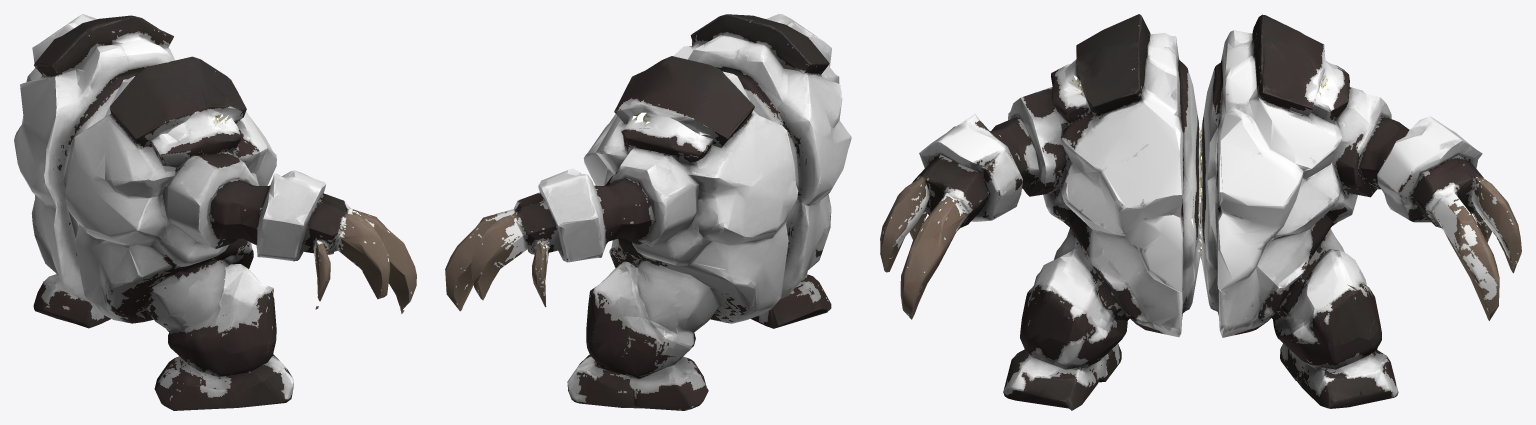
The model's file is splitter.glb.
3 views of the same model, side by side, from view 1: azimuth 30°, elevation 25°; view 2: azimuth 150°, elevation 25°; view 3: azimuth 270°, elevation 25° (orthographic). The views are drawn at different scales.
Parts seen in each view (by area): view 1: arm_r, half_r, half_l, leg_r, leg_l, arm_l; view 2: arm_l, half_l, half_r, leg_l, leg_r, arm_r; view 3: half_l, half_r, arm_r, arm_l, leg_l, leg_r.
Part boxes in pixels (bbox=[...]): arm_r: bbox=[135, 127, 416, 354]; half_r: bbox=[65, 56, 276, 330]; half_l: bbox=[14, 15, 174, 292]; leg_r: bbox=[86, 298, 293, 410]; leg_l: bbox=[33, 274, 110, 328]; arm_l: bbox=[20, 14, 96, 87]; arm_l: bbox=[445, 124, 723, 356]; half_l: bbox=[583, 56, 798, 331]; half_r: bbox=[673, 14, 850, 294]; leg_l: bbox=[567, 308, 771, 410]; leg_r: bbox=[750, 274, 831, 328]; arm_r: bbox=[766, 14, 851, 139]; half_l: bbox=[1200, 14, 1339, 332]; half_r: bbox=[1060, 14, 1201, 334]; arm_r: bbox=[880, 66, 1069, 343]; arm_l: bbox=[1331, 65, 1521, 346]; leg_l: bbox=[1216, 311, 1398, 408]; leg_r: bbox=[1003, 310, 1181, 410].
Size of the model in its own units: 0.7705 by 0.9988 by 1.71.
3 materials, 3 textured.
